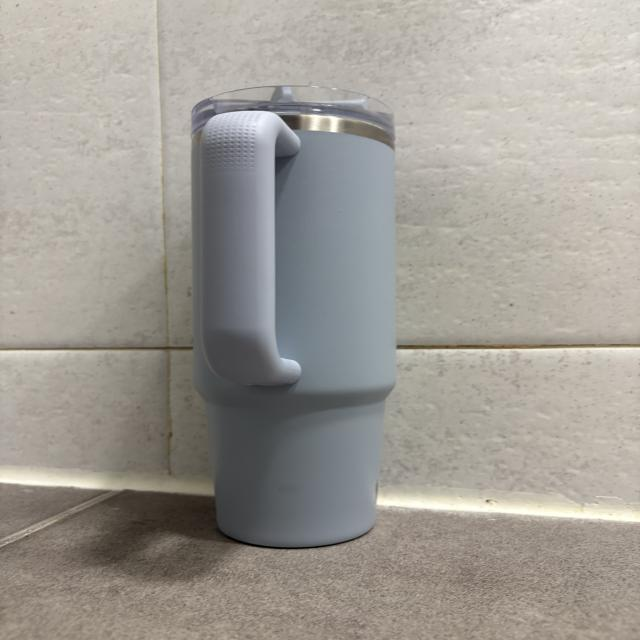waterbottle: (193, 87, 396, 550)
